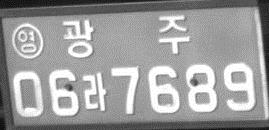0: (12, 71, 43, 117)
6: (47, 68, 80, 117), (147, 65, 180, 114)
7: (109, 65, 140, 115)
8: (184, 63, 217, 112)
9: (222, 62, 256, 112)
광주_D: (61, 14, 189, 58)
라: (81, 72, 107, 112)
영: (10, 23, 43, 59)
